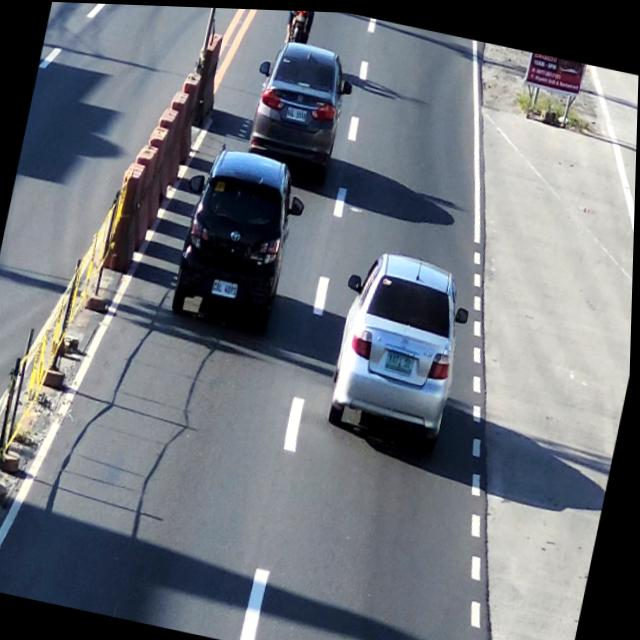Car: (322, 244, 479, 455), (170, 142, 305, 341), (246, 33, 351, 174), (282, 8, 316, 39)
License-Plate: (384, 343, 420, 374), (209, 274, 243, 298), (281, 101, 310, 121)
